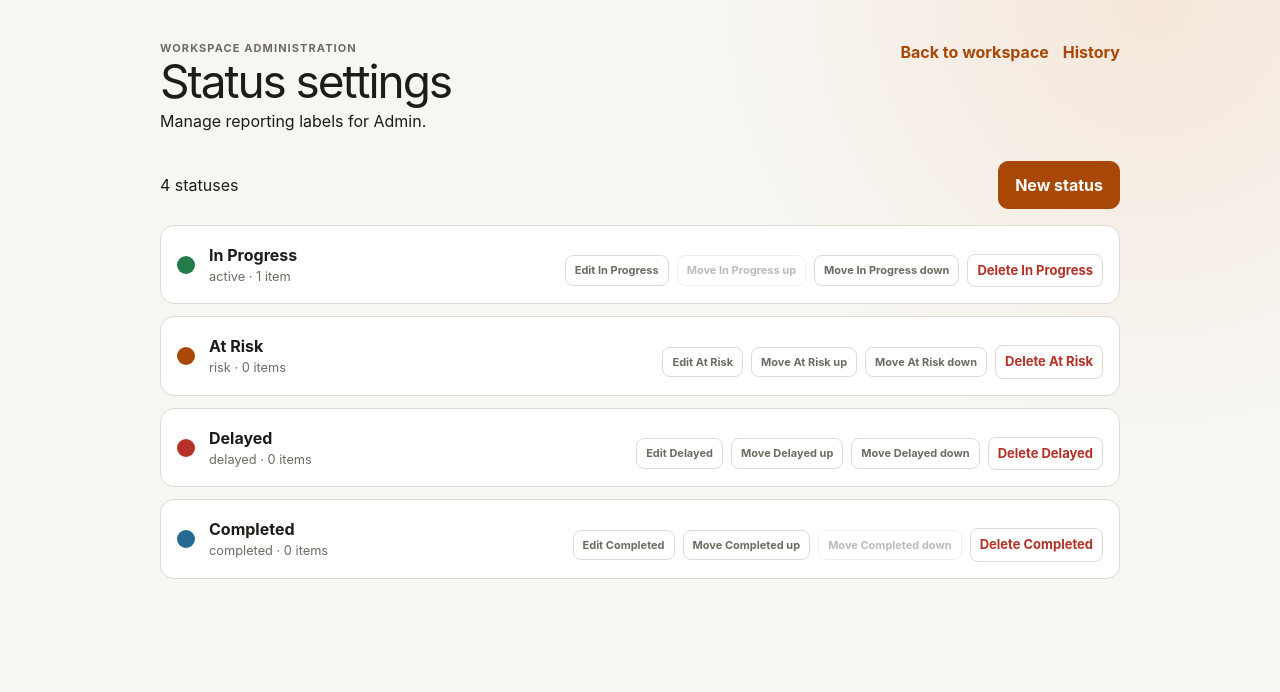
Test case: StatusManager › shows usage counts and rejects duplicate names
Click the button "New status": coordinates (1059, 185) [998, 161, 1120, 209]
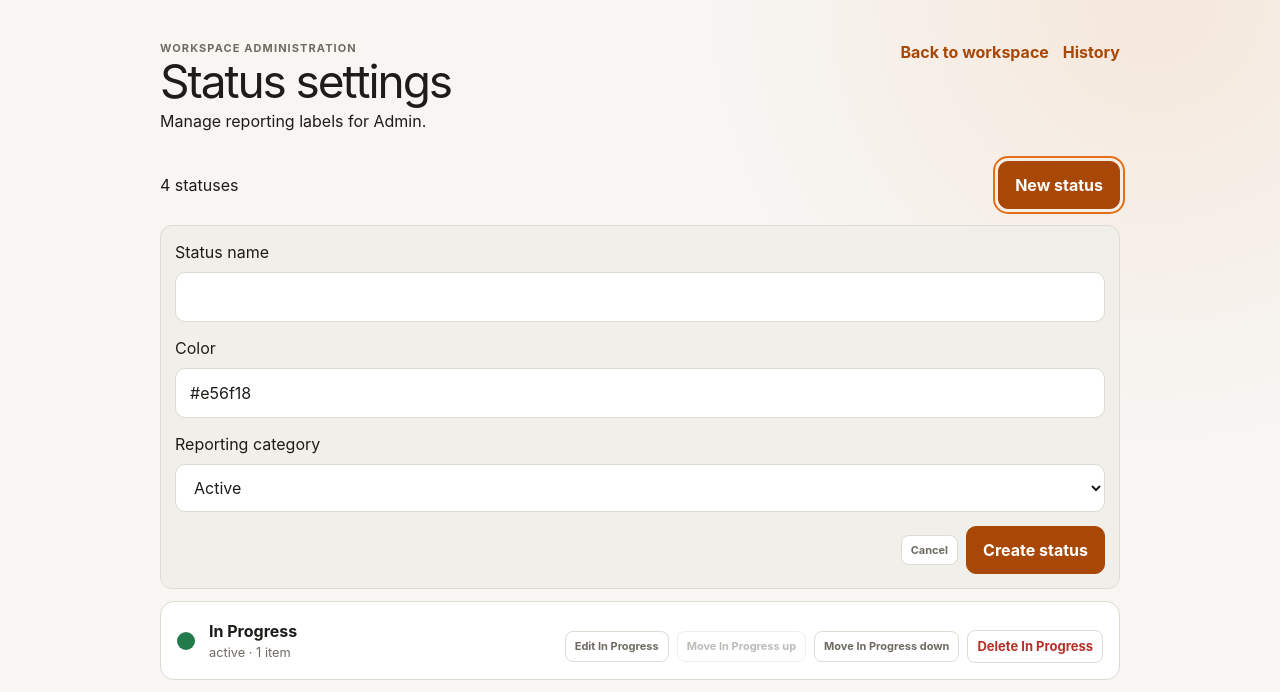
In the field labelled "Status name": coordinates (640, 297) [175, 272, 1105, 322], type " in progress "
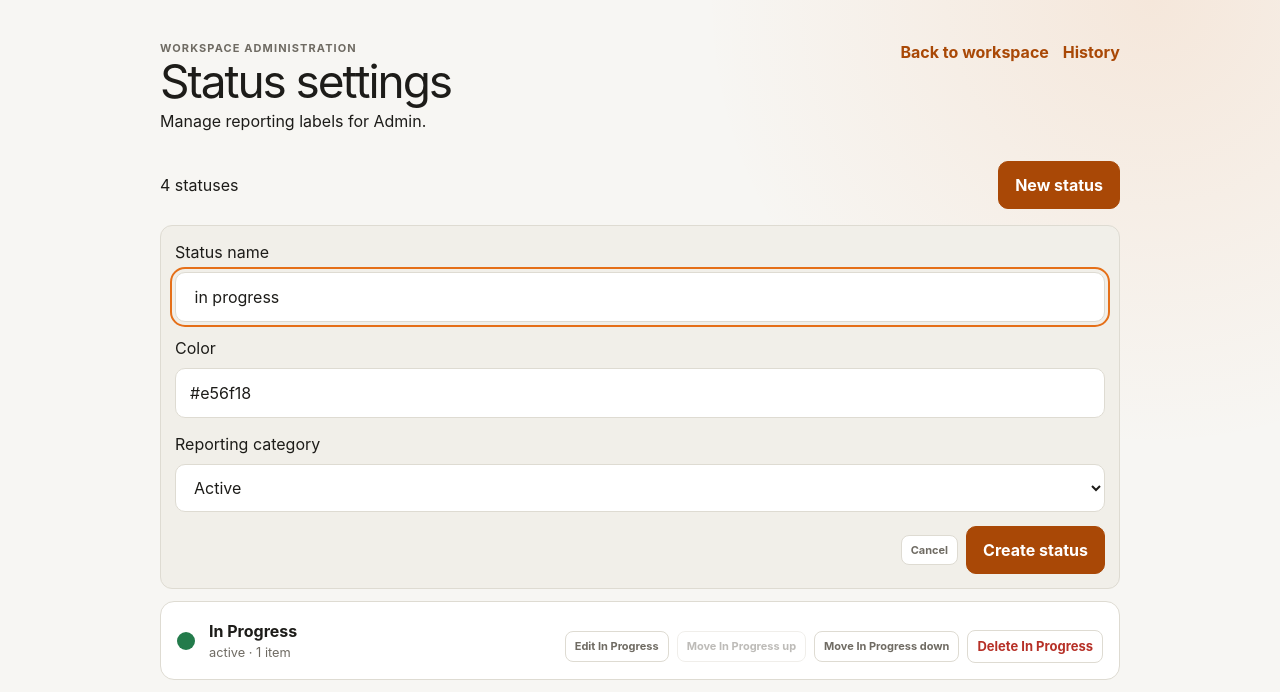
Click the button "Create status": coordinates (1036, 550) [966, 526, 1105, 574]
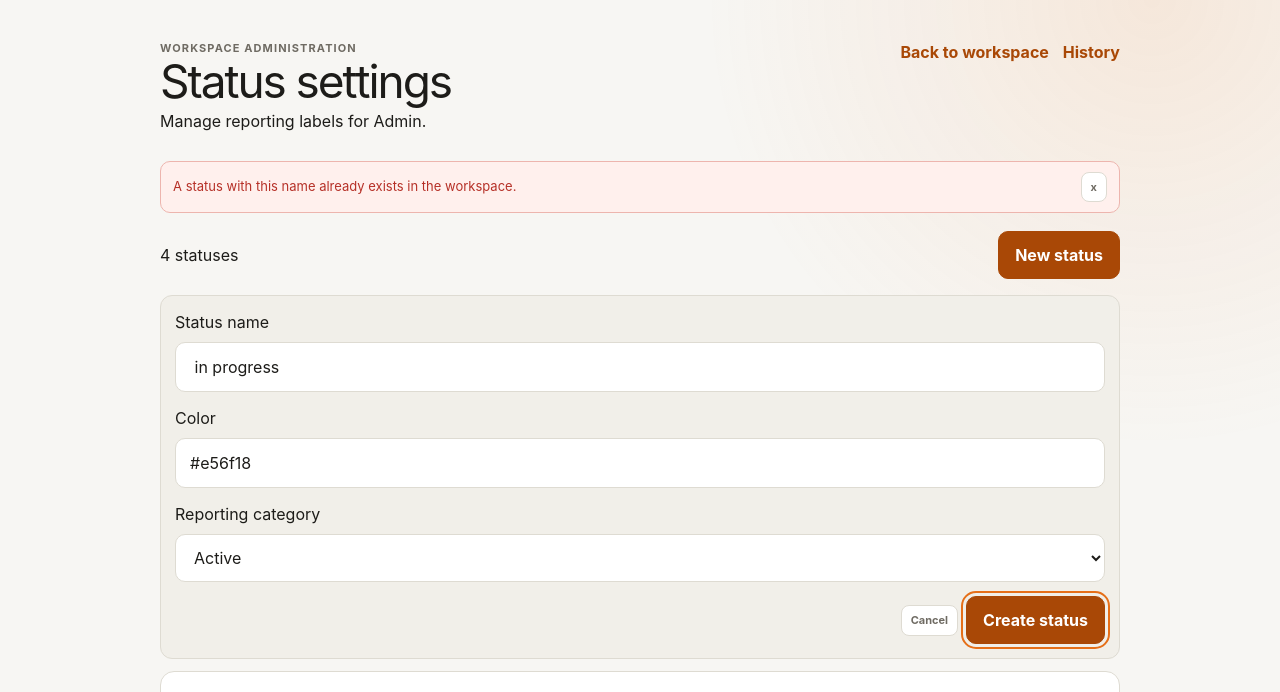
Expected: the message shows "already exists", [173, 178, 516, 194]
